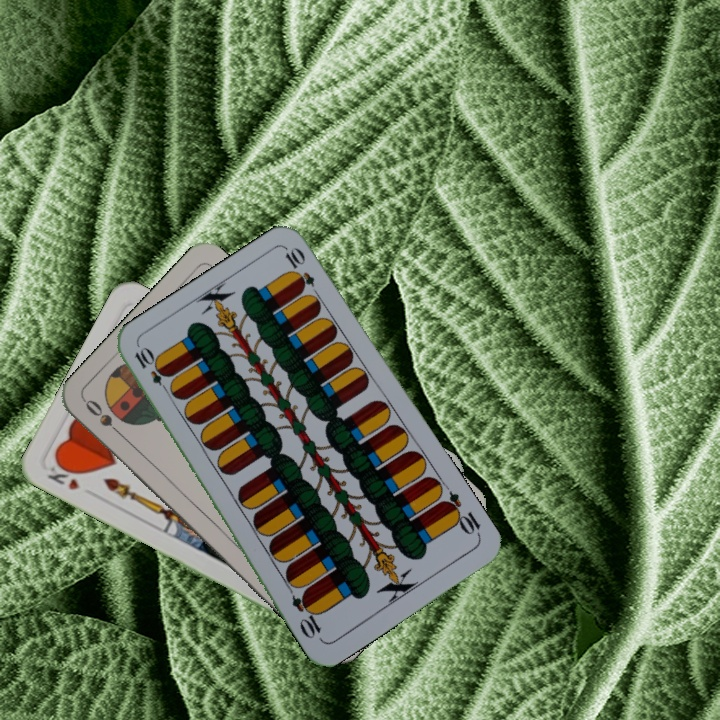E10: (437, 487, 484, 540), (130, 343, 174, 397)
HK: (43, 457, 83, 493)
SO: (81, 395, 128, 442)
